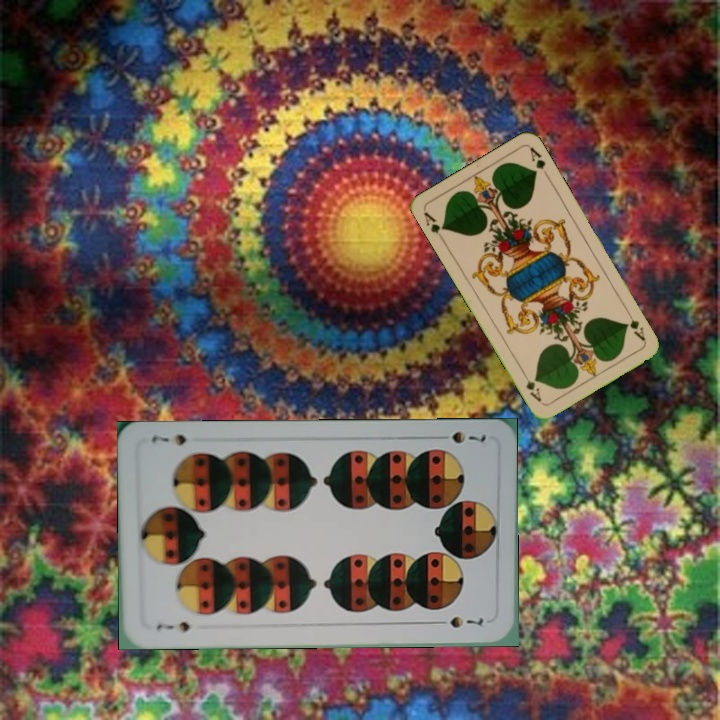GA: (419, 207, 448, 244), (623, 306, 648, 344)
S7: (432, 427, 489, 446), (152, 618, 192, 635)
